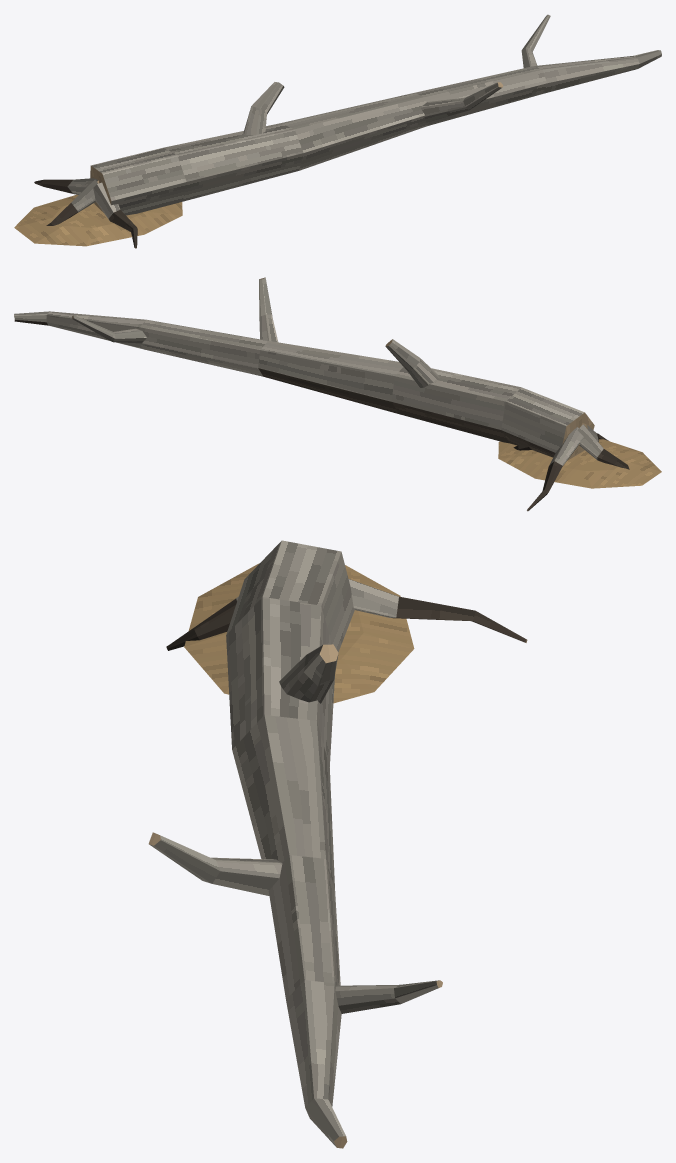
File: long-bole.glb
3 renders of one model, top to bottom at view 1: azimuth 30°, elevation 25°; view 2: azimuth 150°, elevation 25°; view 3: azimuth 270°, elevation 25°, orthographic. The views are drawn at different scales.
Visible parts, largest first — view 1: long-bole; view 2: long-bole; view 3: long-bole.
Boxes of the visible parts, x1,y1,x2,y2 form: long-bole: (14,14,661,248); long-bole: (14,277,661,511); long-bole: (148,540,527,1148).
Size of the model in its own units: 12.15 by 1.67 by 3.18.
Materials: 4 (4 with a texture image).
